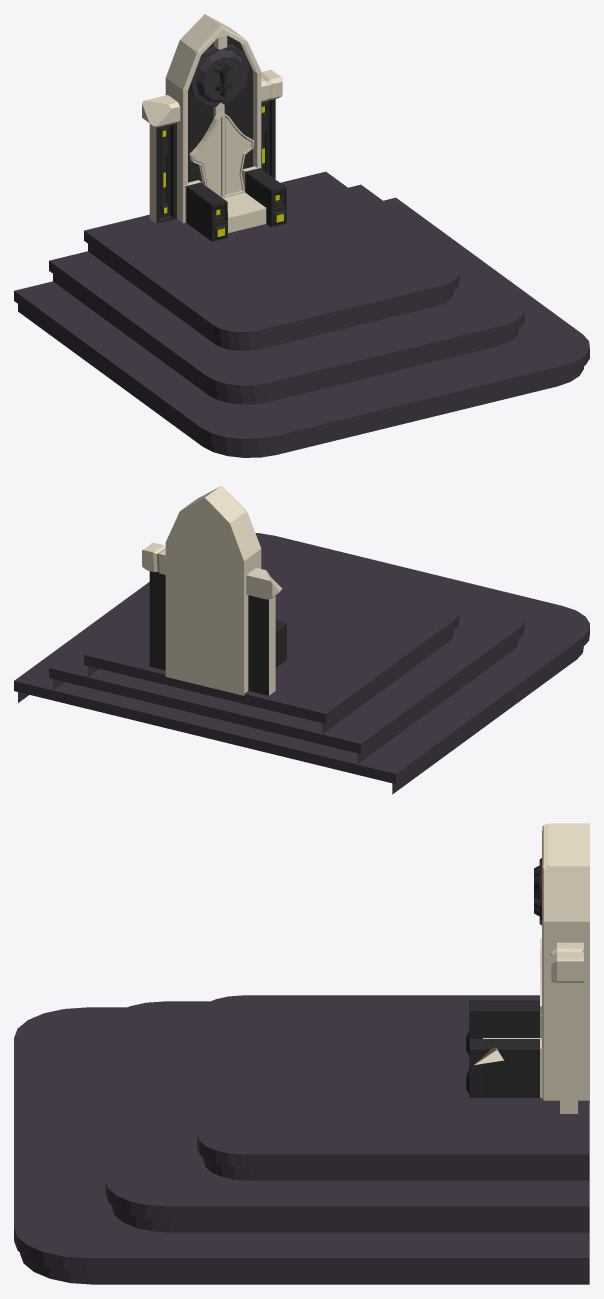
File: Throne.fbx
3 views of the same model, one above another, from view 1: azimuth 30°, elevation 25°; view 2: azimuth 150°, elevation 25°; view 3: azimuth 270°, elevation 25° (orthographic). The views are drawn at different scales.
Parts seen in each view (by area): view 1: Throne; view 2: Throne; view 3: Throne.
Boxes of the visible parts, x1,y1,x2,y2 form: Throne: (14, 14, 589, 457); Throne: (14, 486, 589, 794); Throne: (14, 823, 589, 1284).
Bounding box in the file's own units: 594 × 374 × 576.
